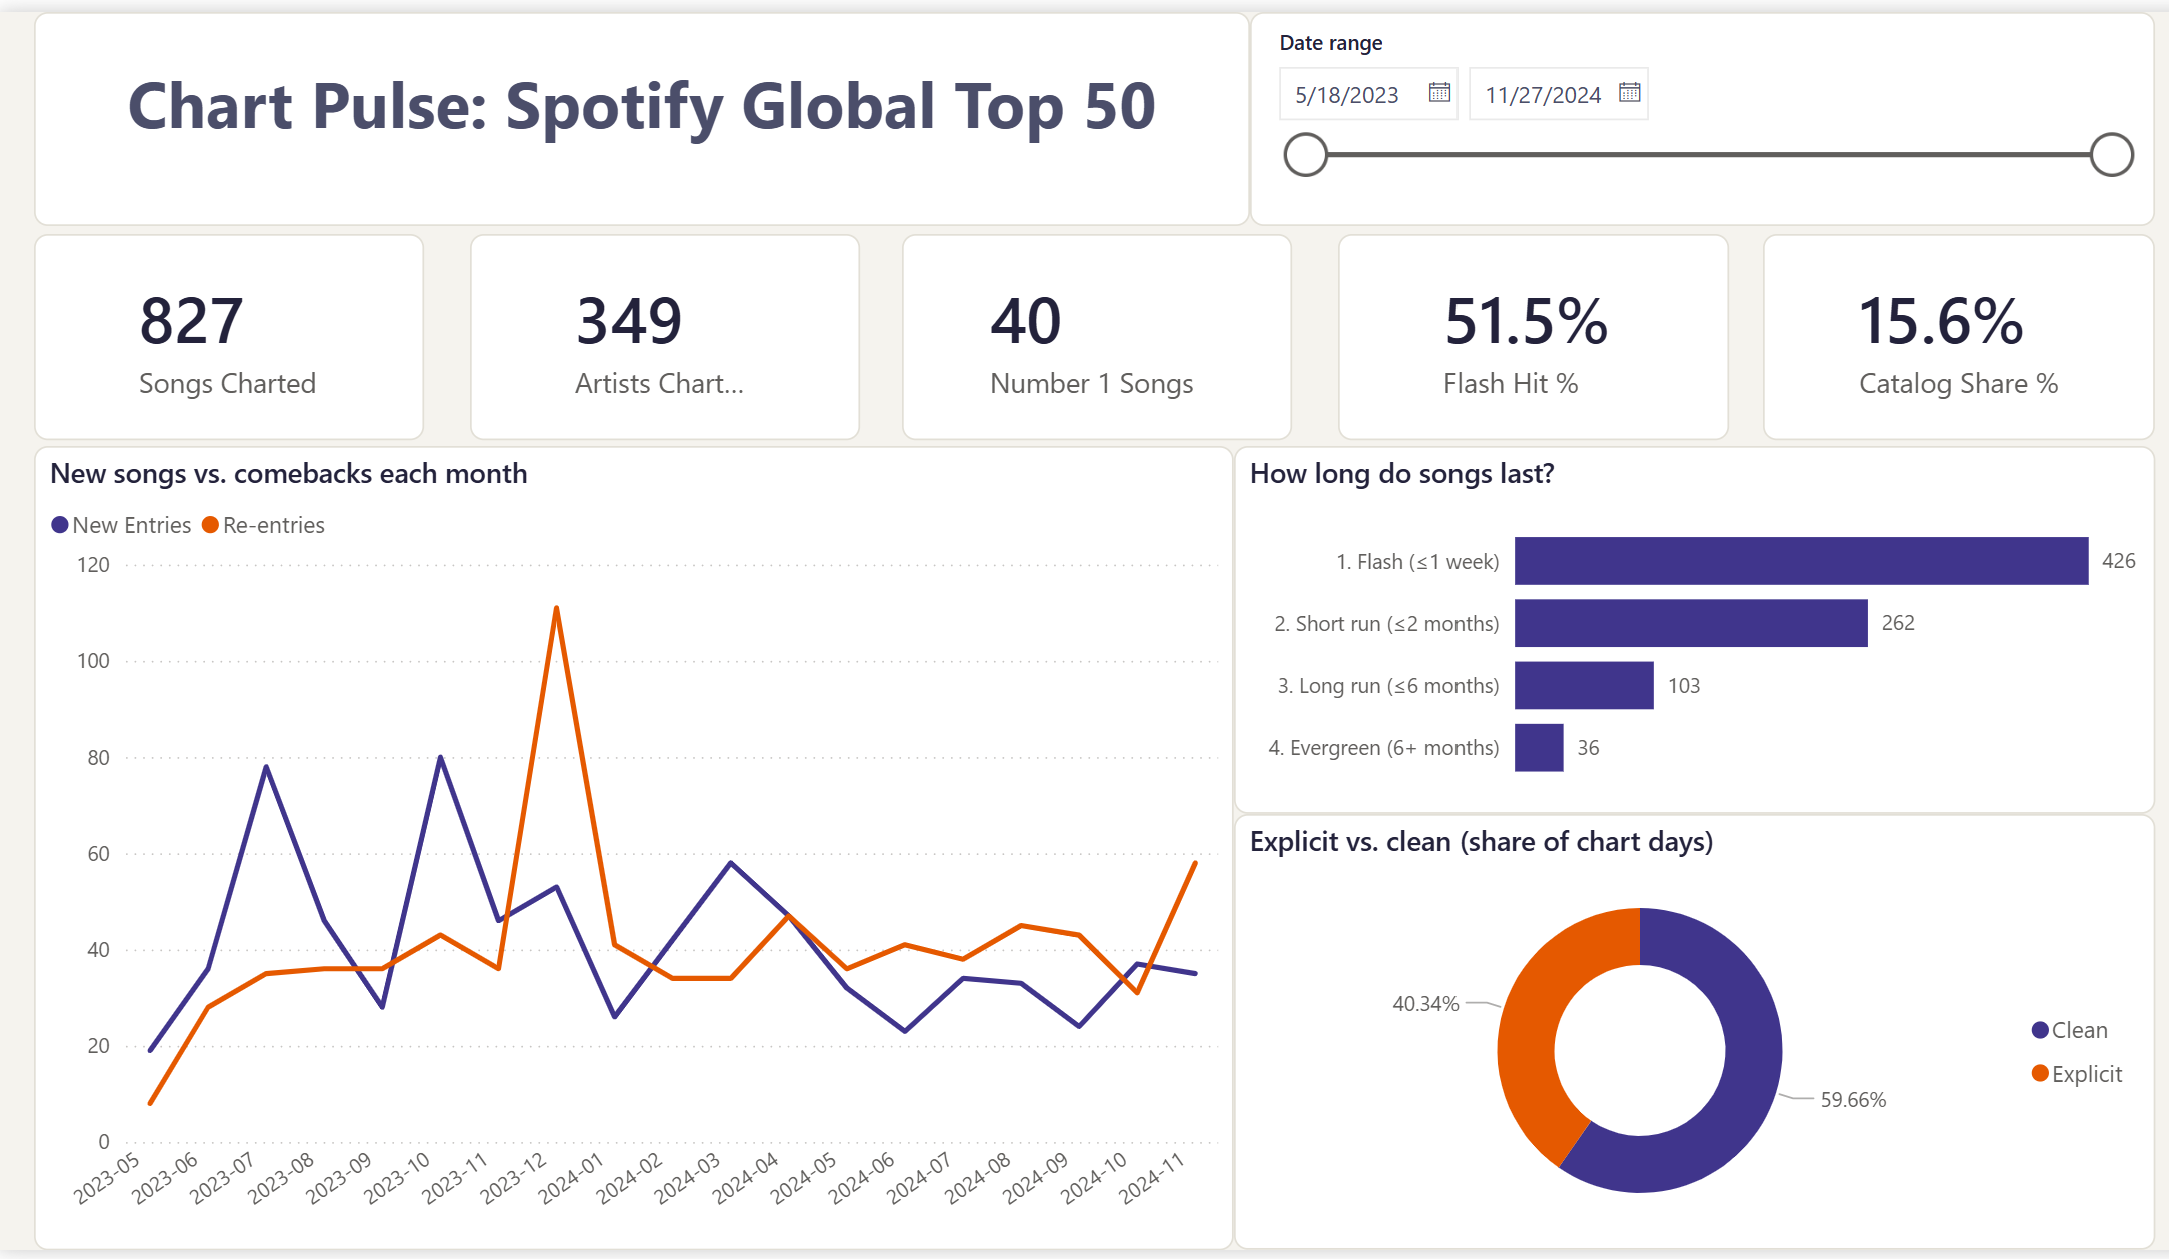

The page's visual inventory and layout, read from the dashboard file:
{"tool":"powerbi","page":{"name":"Overview","canvas":[1280,720],"ordinal":0},"visuals":[{"type":"textbox","box":[20.9,0,707.5,124.5],"z":0},{"type":"cardVisual","fields":{"Data":["_Measures.Songs Charted"]},"box":[20.9,129.2,226.9,119.9],"z":1000},{"type":"cardVisual","fields":{"Data":["_Measures.Artists Charted"]},"box":[274.6,129.2,226.9,119.9],"z":2000},{"type":"cardVisual","fields":{"Data":["_Measures.Number 1 Songs"]},"box":[526,129.2,226.9,119.9],"z":3000},{"type":"cardVisual","fields":{"Data":["_Measures.Flash Hit %"]},"box":[779.6,129.2,226.9,119.9],"z":4000},{"type":"cardVisual","fields":{"Data":["_Measures.Catalog Share %"]},"box":[1026.3,129.2,228.1,119.9],"z":5000},{"type":"lineChart","title":"New songs vs. comebacks each month","fields":{"Category":["dim_date.year_month"],"Y":["_Measures.New Entries","_Measures.Re-entries"]},"box":[20.9,252.5,698.2,467.8],"z":6000},{"type":"clusteredBarChart","title":"How long do songs last?","fields":{"Category":["dim_song.longevity_tier"],"Y":["_Measures.Songs Charted"]},"box":[719.1,252.5,535.3,214.1],"z":7000},{"type":"donutChart","title":"Explicit vs. clean (share of chart days)","fields":{"Category":["dim_song.Explicit Label"],"Y":["_Measures.Chart Days"]},"box":[719.1,466.6,535.3,253.7],"z":8000},{"type":"slicer","fields":{"Values":["dim_date.date"]},"box":[728.4,0,526,124.5],"z":9000}]}

Visuals, with their boxes on the page's 1280x720 design canvas (x1, y1, x2, y2). These are canvas units, not pixel positions in the 2169x1259 screenshot, which may show the page scaled, cropped or inside an application window:
textbox: bbox(21, 0, 728, 124)
cardVisual - _Measures.Songs Charted: bbox(21, 129, 248, 249)
cardVisual - _Measures.Artists Charted: bbox(275, 129, 502, 249)
cardVisual - _Measures.Number 1 Songs: bbox(526, 129, 753, 249)
cardVisual - _Measures.Flash Hit %: bbox(780, 129, 1006, 249)
cardVisual - _Measures.Catalog Share %: bbox(1026, 129, 1254, 249)
"New songs vs. comebacks each month" lineChart: bbox(21, 252, 719, 720)
"How long do songs last?" clusteredBarChart: bbox(719, 252, 1254, 467)
"Explicit vs. clean (share of chart days)" donutChart: bbox(719, 467, 1254, 720)
slicer - dim_date.date: bbox(728, 0, 1254, 124)
